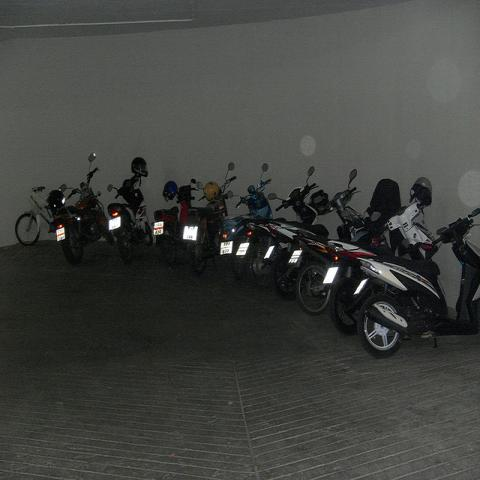motorcycle: (356, 208, 480, 359), (287, 178, 402, 316), (331, 196, 440, 333), (237, 166, 319, 290), (44, 151, 114, 267), (183, 163, 236, 277), (106, 154, 153, 264), (220, 180, 272, 278), (266, 222, 330, 291), (154, 178, 198, 266), (319, 169, 365, 240)
